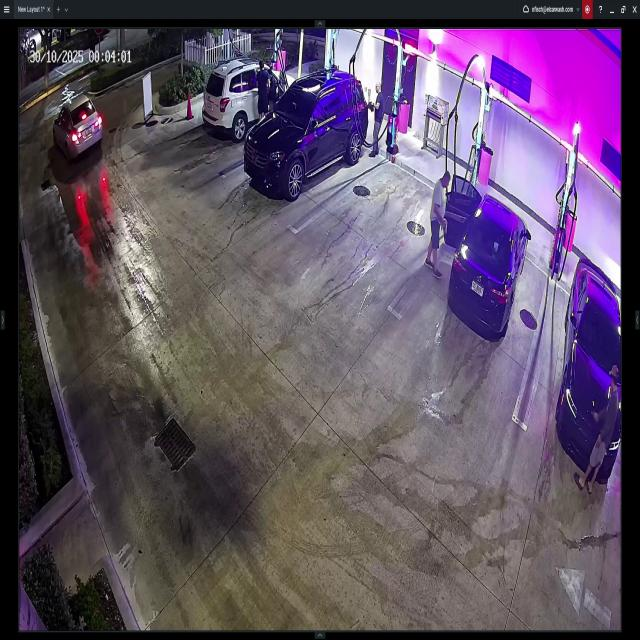Car: (243, 70, 368, 196), (444, 175, 530, 339), (555, 260, 619, 468), (203, 62, 302, 137), (52, 94, 104, 154)
